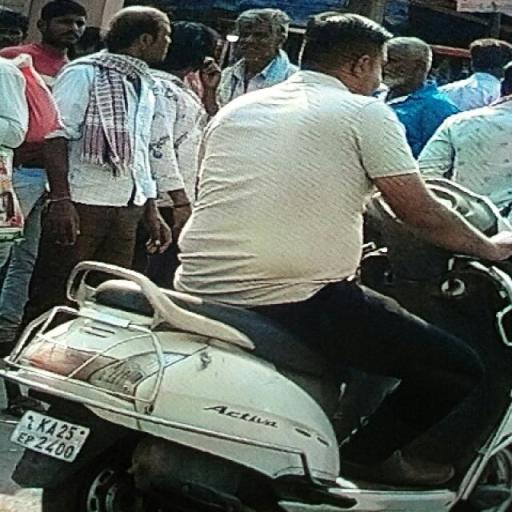bike: (6, 7, 508, 504)
numberplate: (12, 404, 90, 468)
withouthelmet: (303, 16, 384, 85)
